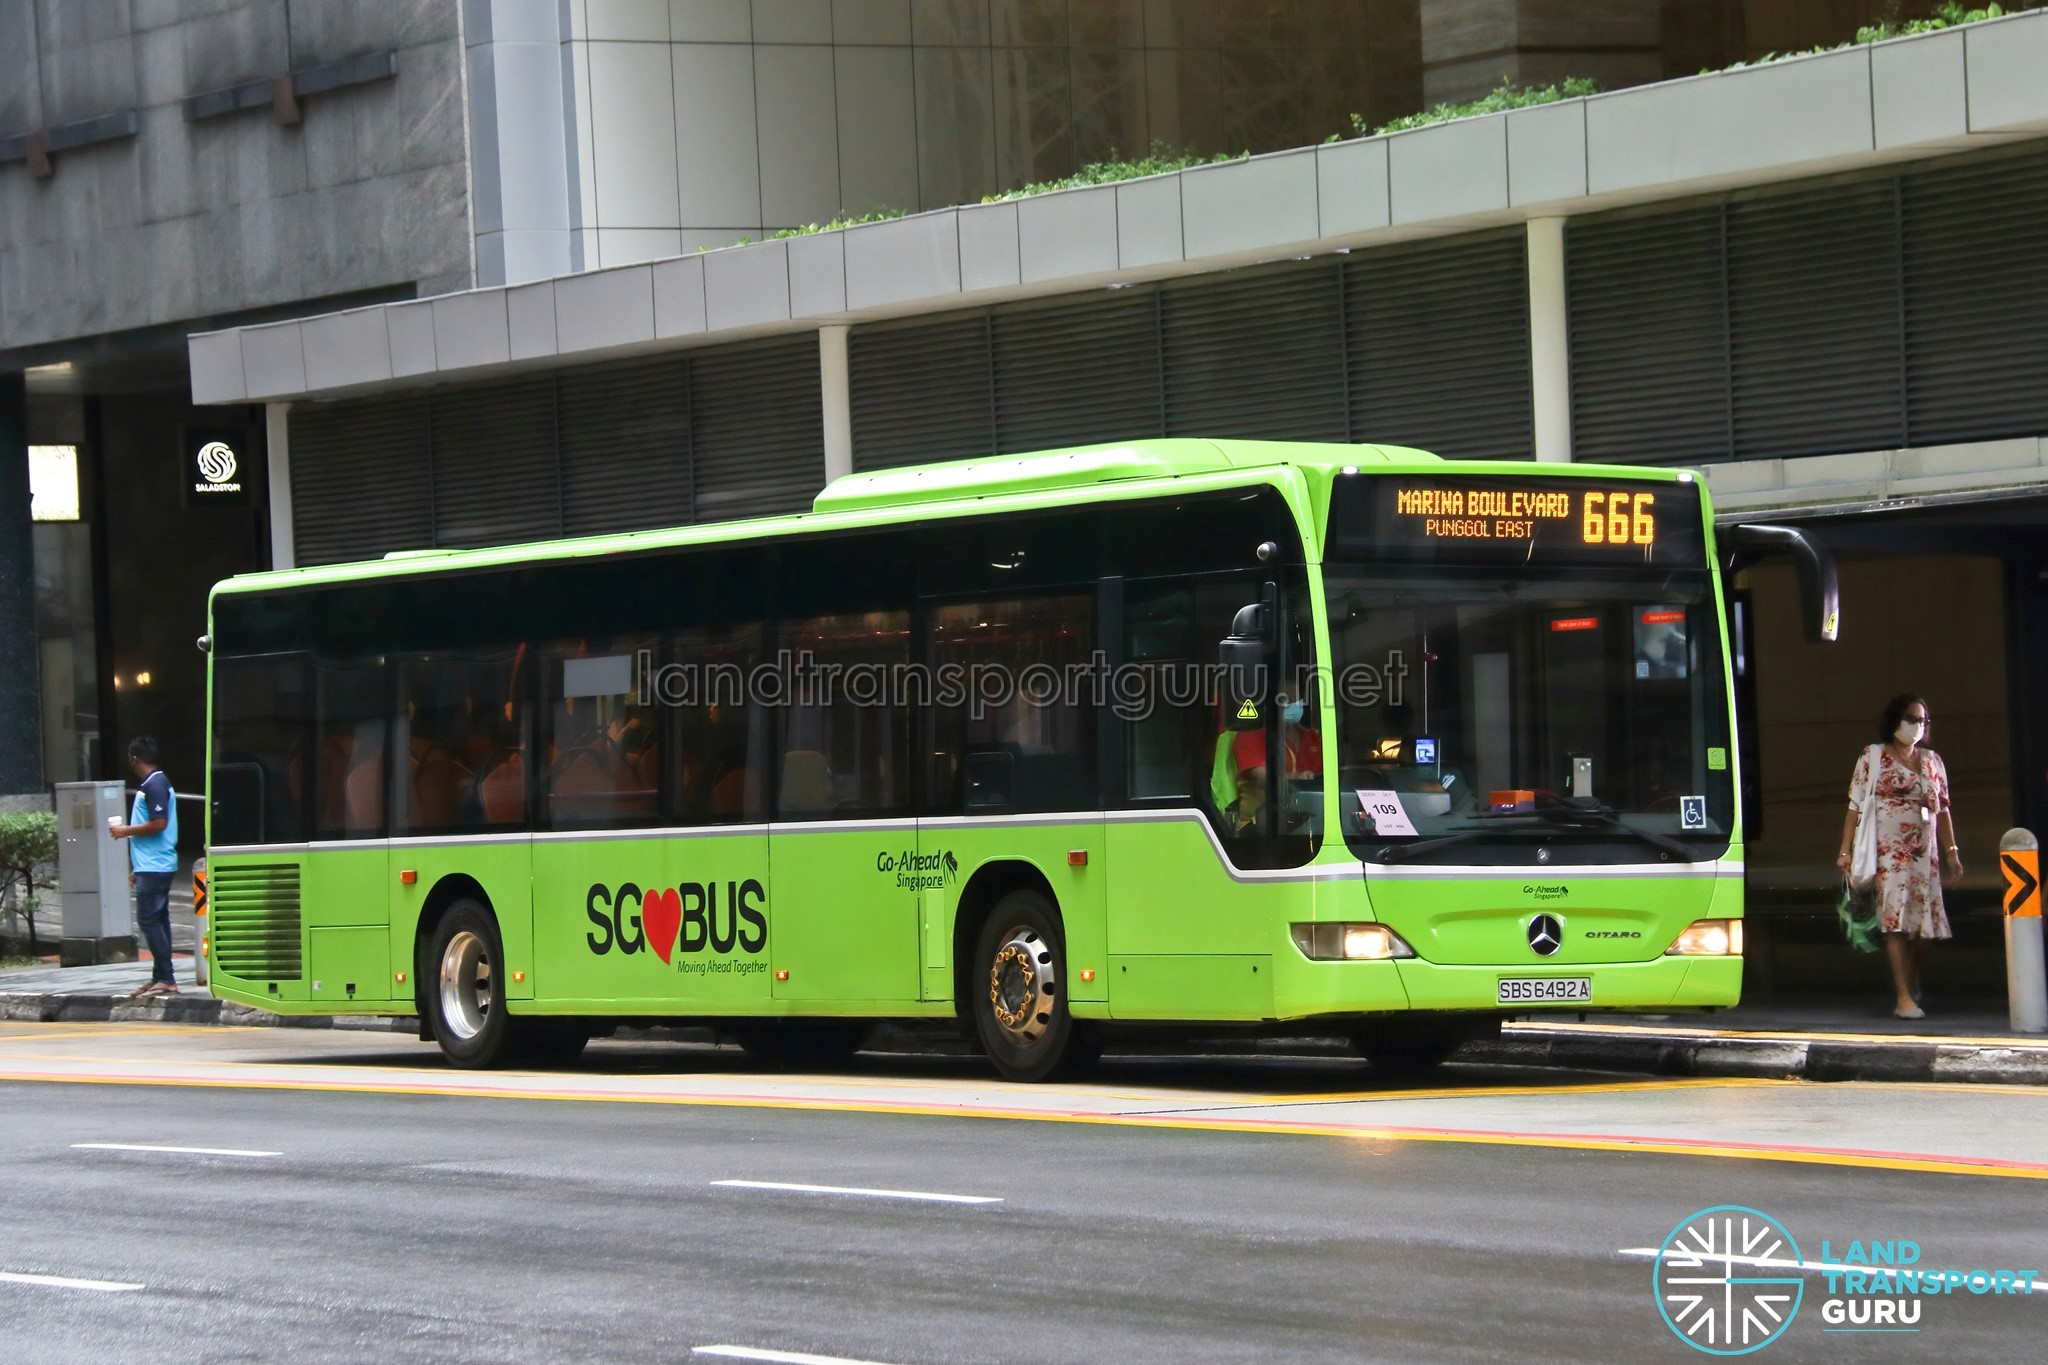bus: (203, 440, 1849, 1089)
